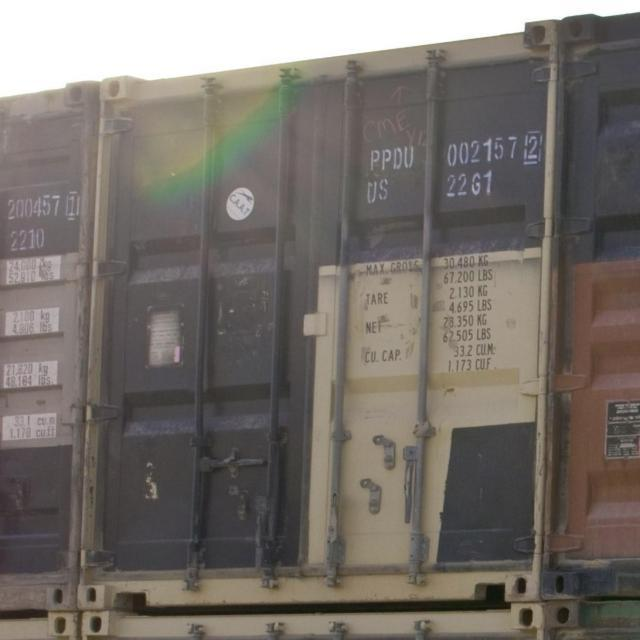ISO: (438, 174, 502, 200)
container_number: (370, 139, 546, 166)
